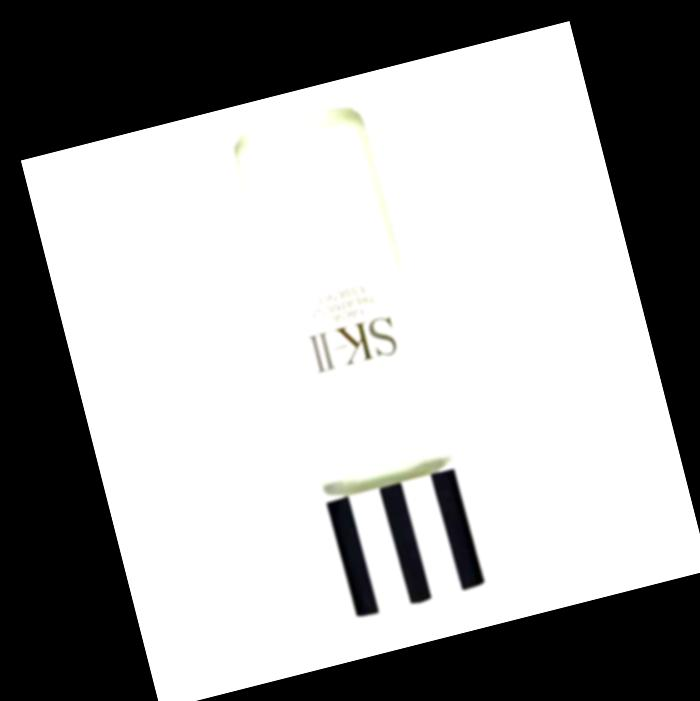cosmetic: (223, 97, 486, 618)
